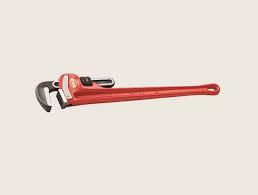wrench: (33, 71, 221, 112)
